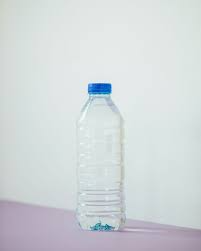bottle: (71, 82, 128, 233)
